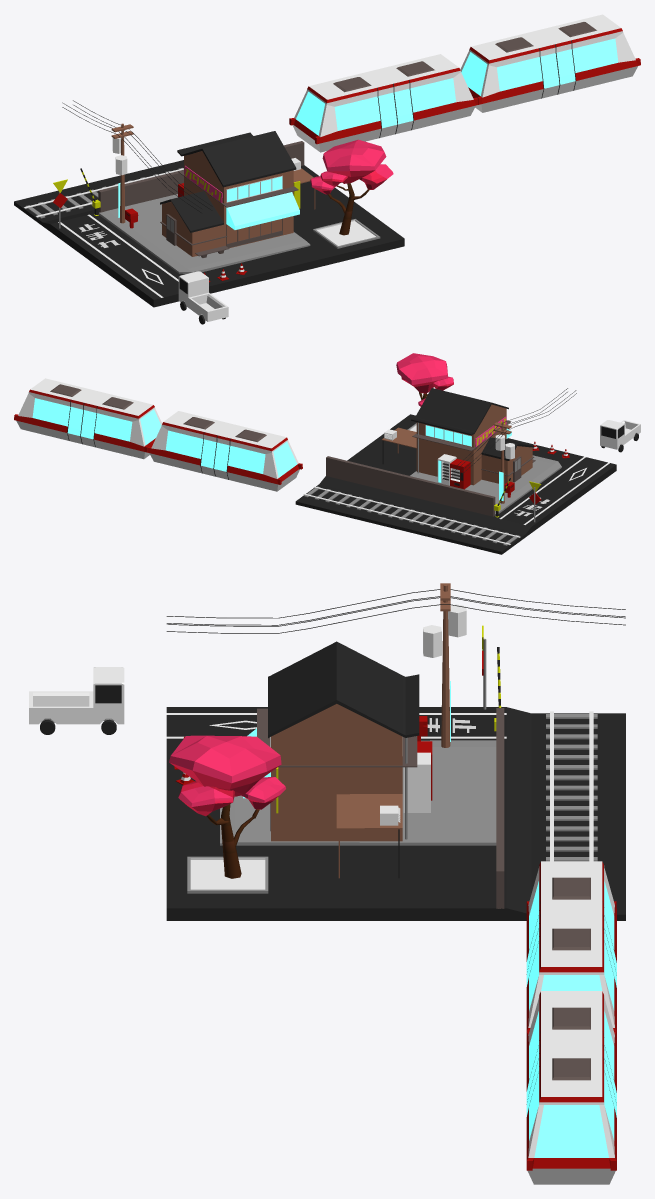
File: paysage2.gltf
3 renders of one model, top to bottom at view 1: azimuth 30°, elevation 25°; view 2: azimuth 150°, elevation 25°; view 3: azimuth 270°, elevation 25°, orthographic. The views are drawn at different scales.
Visible parts, largest first — view 1: wagon, road, house, trottoir.001, fleats, wall, car, earth, cable, roadstrip, three, rebord.002 (+2 smaller); view 2: wagon, road, house, wall, trottoir.001, fleats, repeatRails, car, rails, machineBoisson2, cable, roadstrip (+3 smaller); view 3: road, wagon, house, trottoir.001, fleats, car, repeatRails, earth, cable, wall, machineBoisson1, rails (+4 smaller).
Boxes of the visible parts, x1,y1,x2,y2 form: wagon: (289,14,640,152); road: (14,160,404,307); house: (160,131,315,256); trottoir.001: (99,194,310,273); fleats: (310,139,393,194); wall: (98,141,304,213); car: (178,271,228,321); earth: (313,219,380,248); cable: (62,100,212,213); roadstrip: (58,214,178,297); three: (328,183,369,235); rebord.002: (178,170,298,207); wagon: (14,378,302,491); road: (295,414,616,554); house: (381,388,534,485); wall: (326,456,495,516); trottoir.001: (410,455,561,515); fleats: (396,353,453,406); repeatRails: (304,486,519,545); car: (600,420,640,449); rails: (303,486,520,545); machineBoisson2: (450,458,470,489); cable: (453,388,576,473); roadstrip: (499,456,609,524); road: (166,707,625,920); wagon: (526,861,616,1184); house: (243,641,419,878); trottoir.001: (220,740,496,845); fleats: (169,735,285,816); car: (29,667,124,724); repeatRails: (546,714,597,861); earth: (187,856,268,893); cable: (166,589,625,633); wall: (496,708,504,908); machineBoisson1: (403,752,430,812); rails: (550,711,593,861).
Bounding box in the file's own units: 40.95 × 7.04 × 21.43.
